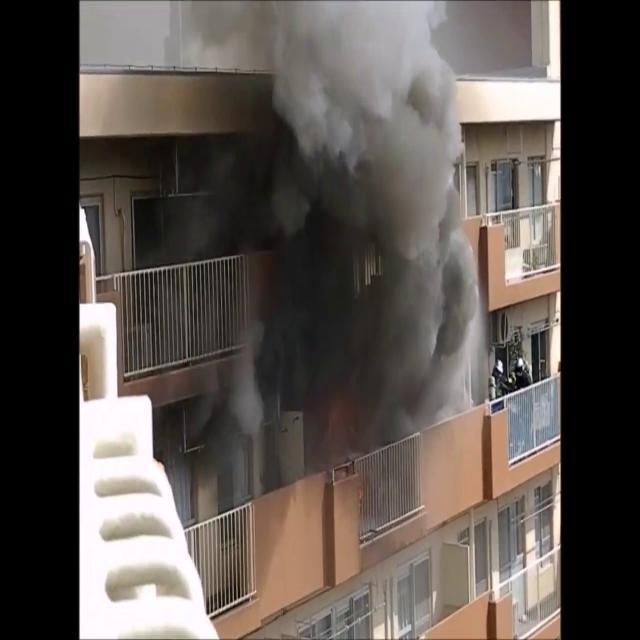Smoke: (194, 0, 491, 492)
